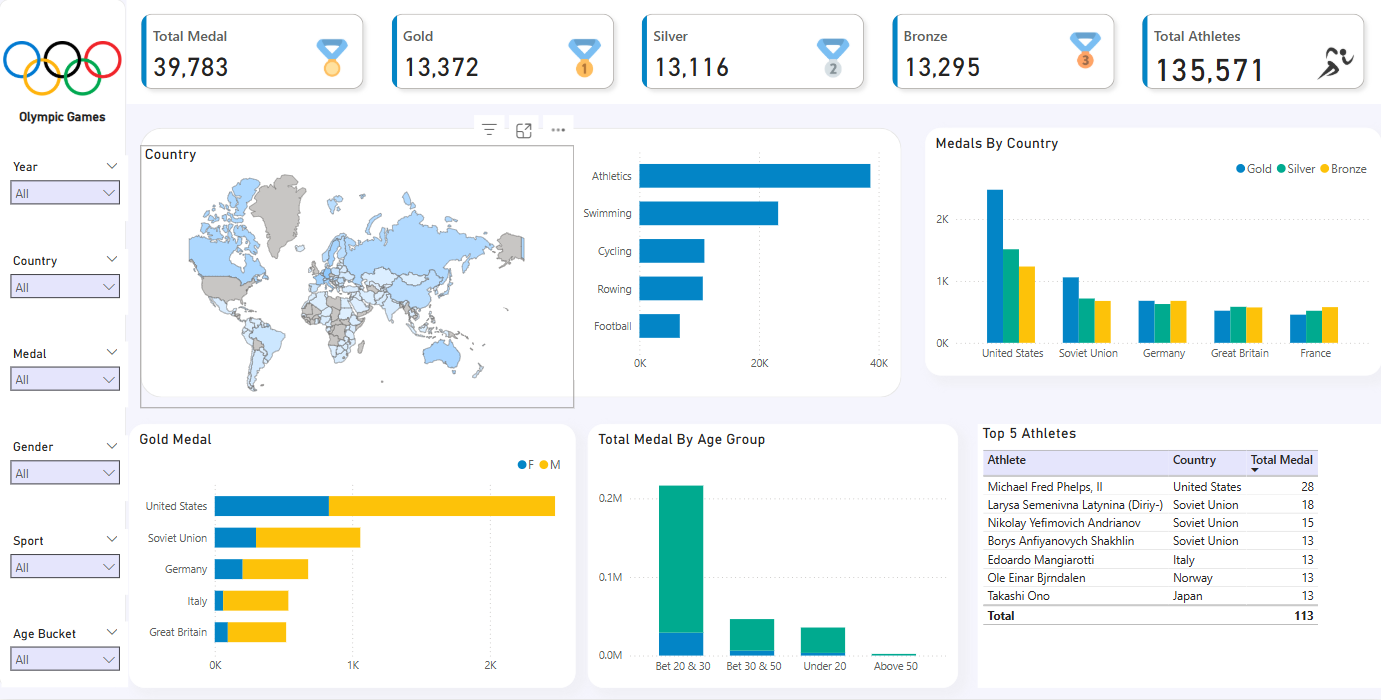

What the dashboard file says about the page in this screenshot:
{"tool":"powerbi","page":{"name":"Olympic Dashboard","canvas":[1580,800],"ordinal":0},"visuals":[{"type":"shape","box":[161.7,146.7,870,308.3],"z":0},{"type":"cardVisual","fields":{"Data":["Measure_.Total Medal","Measure_.Gold","Measure_.Silver","Measure_.Bronze","Measure_.Total Athletes"]},"box":[145,0,1435,120],"z":1000},{"type":"shapeMap","title":"Country","fields":{"Category":["athlete_events.Team"],"Value":["CountNonNull(athlete_events.Medal)"]},"box":[161.7,166.7,495,300],"z":2000},{"type":"barChart","fields":{"Category":["athlete_events.Sport"],"Y":["CountNonNull(athlete_events.Name)"]},"box":[656.7,158.3,363.3,276.7],"z":3000},{"type":"clusteredColumnChart","title":"Medals By Country","fields":{"Category":["athlete_events.Team"],"Y":["Measure_.Gold","Measure_.Silver","Measure_.Bronze"]},"box":[1058.3,146.7,521.7,283.3],"z":4000},{"type":"barChart","title":"Gold Medal ","fields":{"Y":["Measure_.Gold"],"Category":["athlete_events.Team"],"Series":["athlete_events.Sex"]},"box":[148.3,485,510,301.7],"z":5000},{"type":"columnChart","title":"Total Medal By Age Group","fields":{"Category":["athlete_events.Age Bucket"],"Y":["Measure_.Total Medal","CountNonNull(athlete_events.Name)"]},"box":[673.3,485,423.3,301.7],"z":6000},{"type":"tableEx","title":"Top 5 Athletes ","fields":{"Values":["athlete_events.Name","athlete_events.Team","athlete_events.Medal"]},"box":[1118.3,485,461.7,301.7],"z":7000},{"type":"shape","box":[0,0,145,786.7],"z":8000},{"type":"image","box":[0,0,145,158.3],"z":9000},{"type":"textbox","box":[0,120,145,58.3],"z":9001},{"type":"slicer","fields":{"Values":["athlete_events.Year"]},"box":[3.3,178.3,145,75],"z":9002},{"type":"slicer","fields":{"Values":["athlete_events.Team"]},"box":[3.3,285,145,75],"z":9003},{"type":"slicer","fields":{"Values":["athlete_events.Medal"]},"box":[3.3,391.7,145,75],"z":9004},{"type":"slicer","fields":{"Values":["athlete_events.Sex"]},"box":[3.3,498.3,145,75],"z":9005},{"type":"slicer","fields":{"Values":["athlete_events.Sport"]},"box":[3.3,605,145,75],"z":9006},{"type":"slicer","fields":{"Values":["athlete_events.Age Bucket"]},"box":[3.3,711.7,145,75],"z":9007}]}

Visuals, with their boxes in screenshot pixels (x1, y1, x2, y2), scaled from the page's 1580x800 canvas onto the 1381x700 screenshot:
shape: [141, 128, 902, 398]
cardVisual - Measure_.Total Medal x Measure_.Gold: [127, 0, 1380, 105]
"Country" shapeMap: [141, 146, 574, 408]
barChart - athlete_events.Sport x CountNonNull(athlete_events.Name): [574, 139, 892, 381]
"Medals By Country" clusteredColumnChart: [925, 128, 1380, 376]
"Gold Medal " barChart: [130, 424, 575, 688]
"Total Medal By Age Group" columnChart: [588, 424, 958, 688]
"Top 5 Athletes " tableEx: [977, 424, 1380, 688]
shape: [0, 0, 127, 688]
image: [0, 0, 127, 139]
textbox: [0, 105, 127, 156]
slicer - athlete_events.Year: [3, 156, 130, 222]
slicer - athlete_events.Team: [3, 249, 130, 315]
slicer - athlete_events.Medal: [3, 343, 130, 408]
slicer - athlete_events.Sex: [3, 436, 130, 502]
slicer - athlete_events.Sport: [3, 529, 130, 595]
slicer - athlete_events.Age Bucket: [3, 623, 130, 688]
